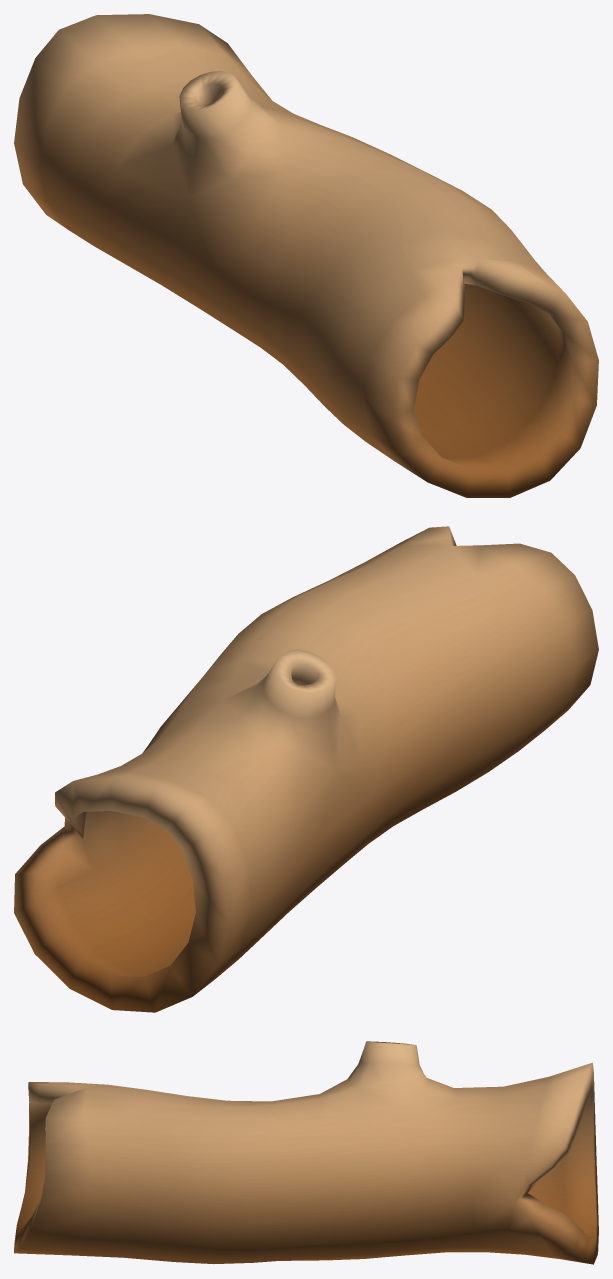
Rendered from Log B1.fbx.
3 renders of one model, top to bottom at view 1: azimuth 30°, elevation 25°; view 2: azimuth 150°, elevation 25°; view 3: azimuth 270°, elevation 25°, orthographic. The views are drawn at different scales.
Parts seen in each view (by area): view 1: LogB1; view 2: LogB1; view 3: LogB1.
Part boxes in pixels (x1,y1,x2,y2): LogB1: (14, 14, 598, 497); LogB1: (14, 526, 598, 1012); LogB1: (14, 1041, 598, 1264).
Bounding box in the file's own units: 7.02 × 19.03 × 7.14.
